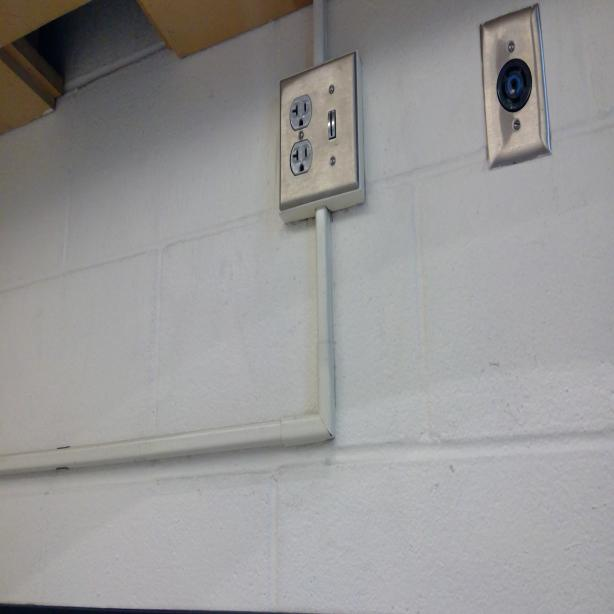typeb: (290, 96, 312, 128), (291, 143, 311, 172)
